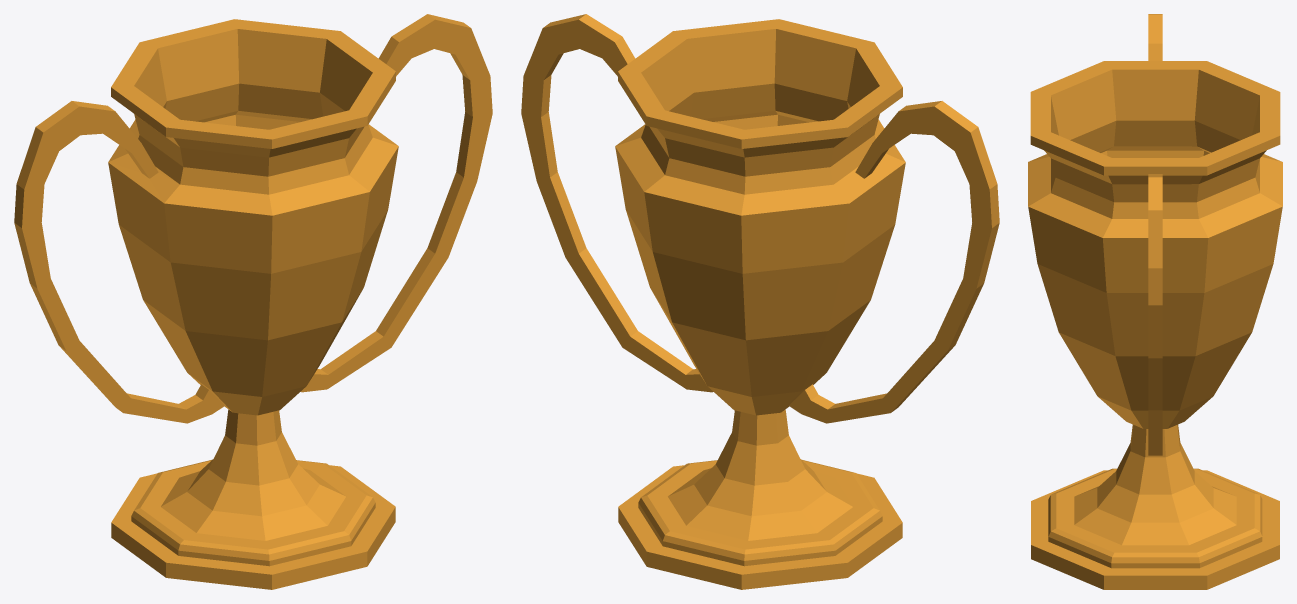
Rendered from Int_Trophy02_1.fbx.
3 renders of one model, left to right at view 1: azimuth 30°, elevation 25°; view 2: azimuth 150°, elevation 25°; view 3: azimuth 270°, elevation 25°, orthographic. The views are drawn at different scales.
Visible parts, largest first — view 1: Int_Trophy02_1; view 2: Int_Trophy02_1; view 3: Int_Trophy02_1.
Part boxes in pixels (left/top/right/bottom): Int_Trophy02_1: left=14, top=14, right=492, bottom=589; Int_Trophy02_1: left=521, top=14, right=999, bottom=589; Int_Trophy02_1: left=1028, top=14, right=1282, bottom=589.
Size of what is drawn, in the model's own units: 52.5 by 26.17 by 50.04.
